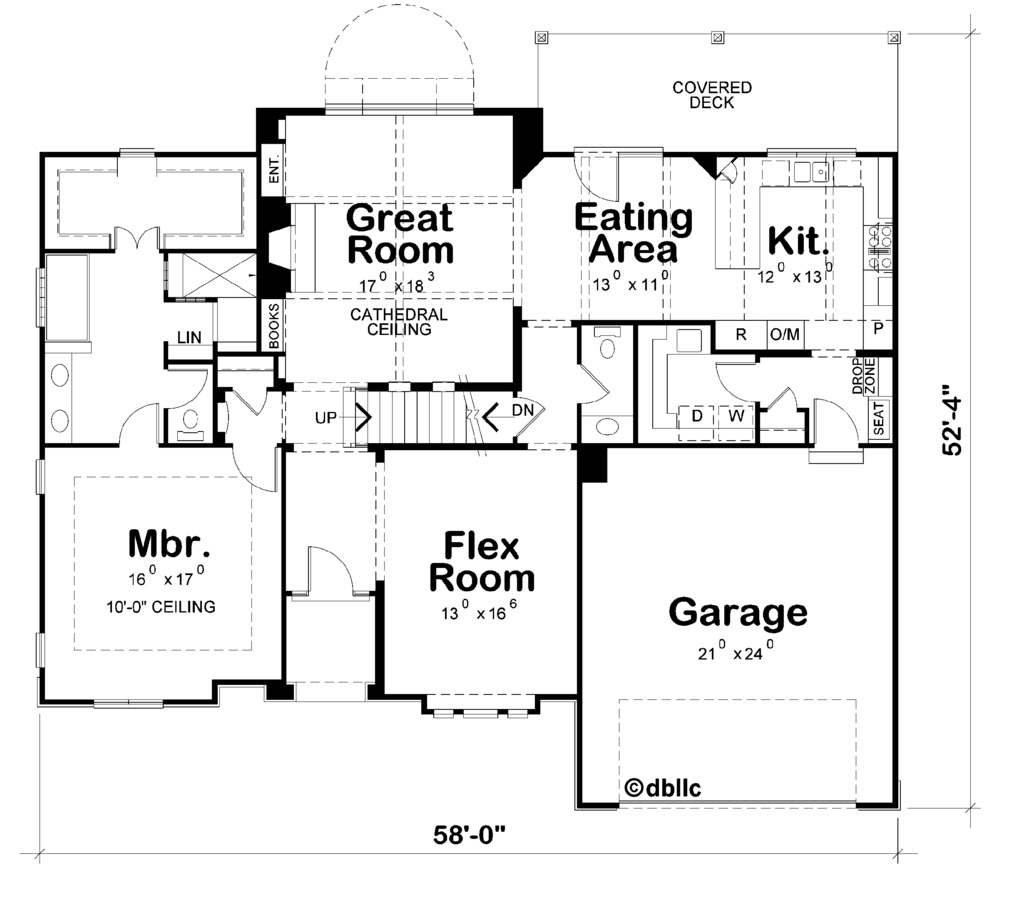door: (571, 140, 633, 205), (811, 391, 866, 458), (307, 540, 362, 603), (221, 439, 280, 493), (111, 400, 168, 448), (500, 391, 550, 444), (709, 354, 761, 404), (105, 219, 168, 253), (162, 364, 205, 408), (228, 376, 276, 414), (576, 360, 612, 403), (769, 387, 796, 418)
large_sink: (584, 314, 628, 365), (173, 405, 208, 450)
small_sink: (39, 346, 84, 447), (579, 405, 641, 451)
twin_sink: (793, 155, 833, 187)
window: (87, 690, 184, 715), (14, 453, 53, 507), (30, 262, 55, 332), (108, 140, 162, 161), (33, 628, 51, 671)
